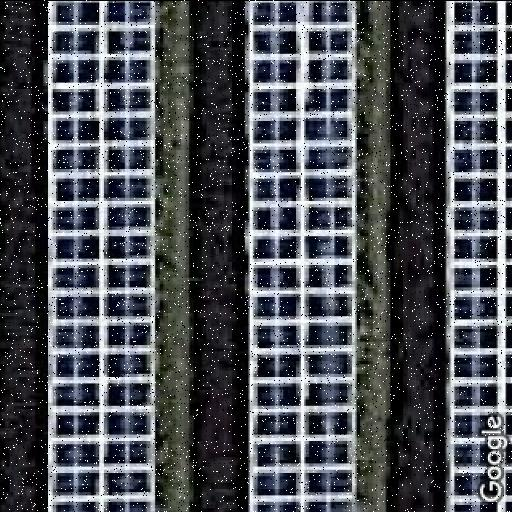solar-panel: (248, 0, 362, 512), (48, 0, 158, 512), (445, 0, 512, 512)
